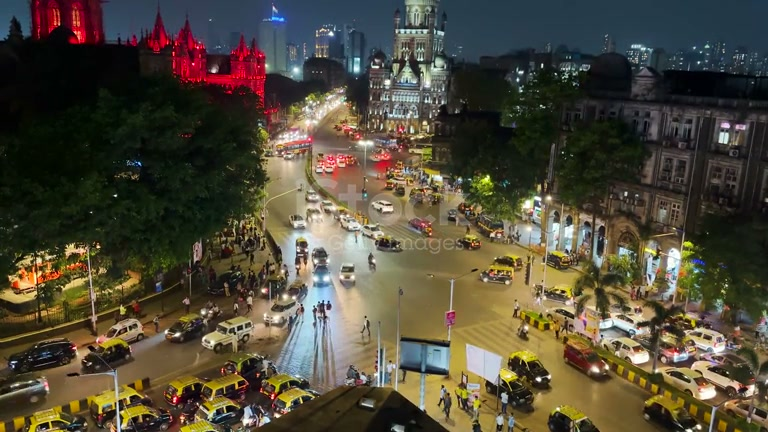car: (7, 339, 80, 374), (641, 390, 702, 431), (692, 360, 755, 398), (656, 367, 717, 403), (562, 338, 612, 381), (506, 349, 553, 390), (202, 316, 253, 353), (83, 338, 134, 372), (547, 402, 601, 432), (1, 374, 50, 407), (273, 387, 319, 416), (165, 315, 207, 344), (108, 318, 144, 344), (658, 345, 695, 366), (263, 309, 289, 327), (338, 263, 356, 287), (456, 235, 482, 250), (370, 198, 395, 213), (377, 238, 401, 252)
pedestrian: (439, 385, 451, 419), (368, 252, 377, 272)
